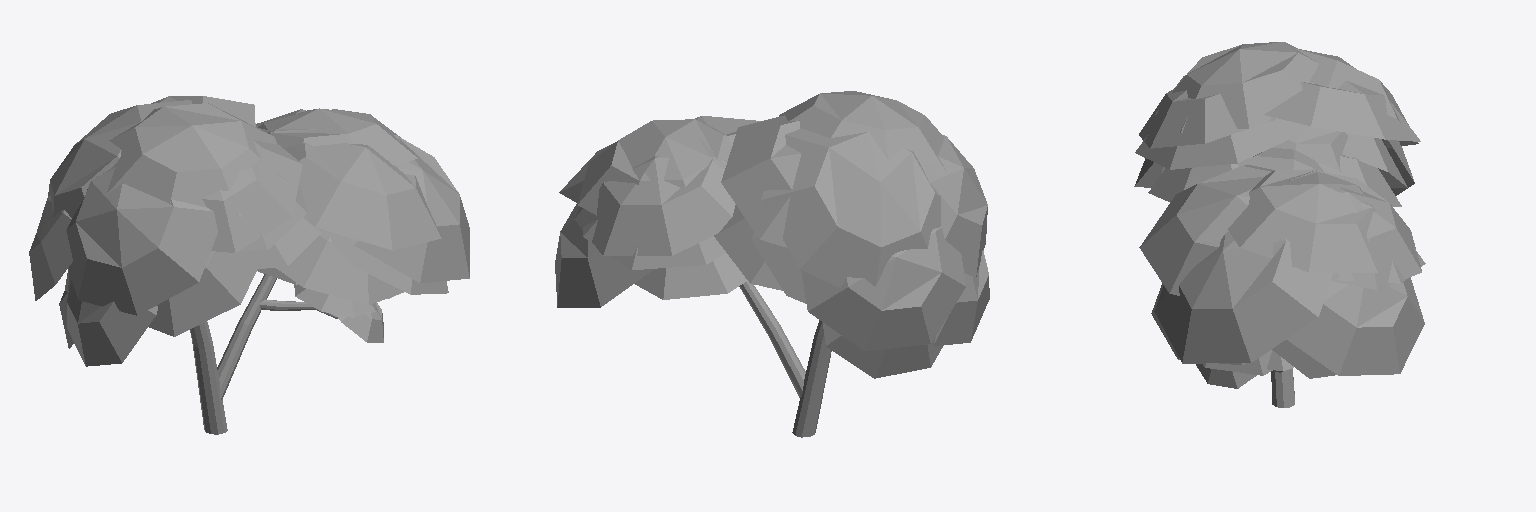
Rendered from Tree_8.obj.
3 renders of one model, left to right at view 1: azimuth 30°, elevation 25°; view 2: azimuth 150°, elevation 25°; view 3: azimuth 270°, elevation 25°, orthographic.
Visible parts, largest first — view 1: Tree_8; view 2: Tree_8; view 3: Tree_8.
Boxes of the visible parts, x1,y1,x2,y2 form: Tree_8: [29, 96, 469, 434]; Tree_8: [555, 91, 989, 437]; Tree_8: [1134, 42, 1425, 407].
Size of the model in its own units: 6.94 by 5.52 by 4.39.